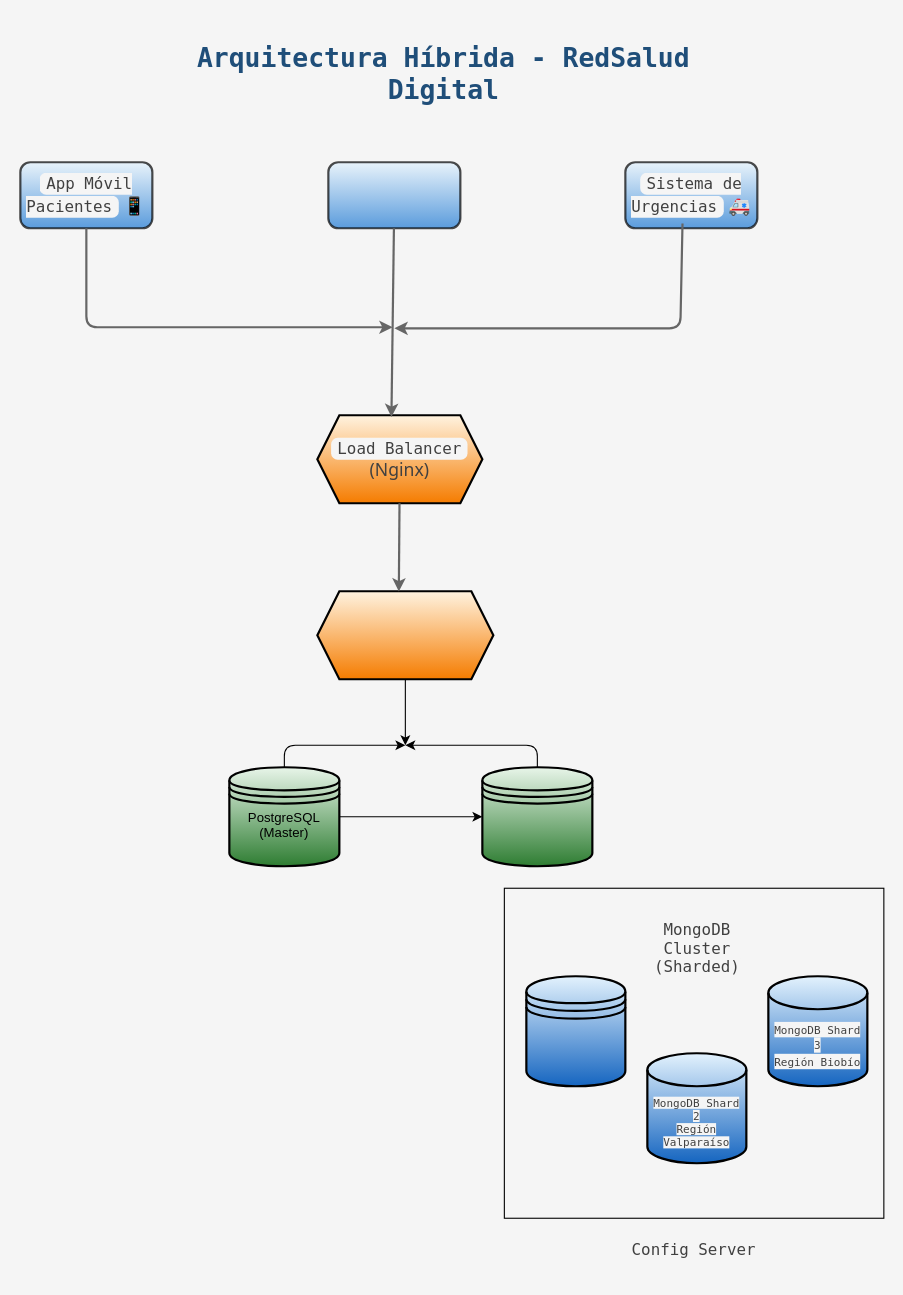
Some shapes in this 903 by 1295 pixel diagram are drawn without their labels. Here are the shapes that lost their labels. From the top down, the centre of each, then its label:
At (394,195): "Portal Web Médicos 💻".
At (405,635): "API Gateway".
At (537,816): "PostgreSQL (Réplica Lectura)".
At (575,1031): "MongoDB Shard 1 Región Metropolitana".
